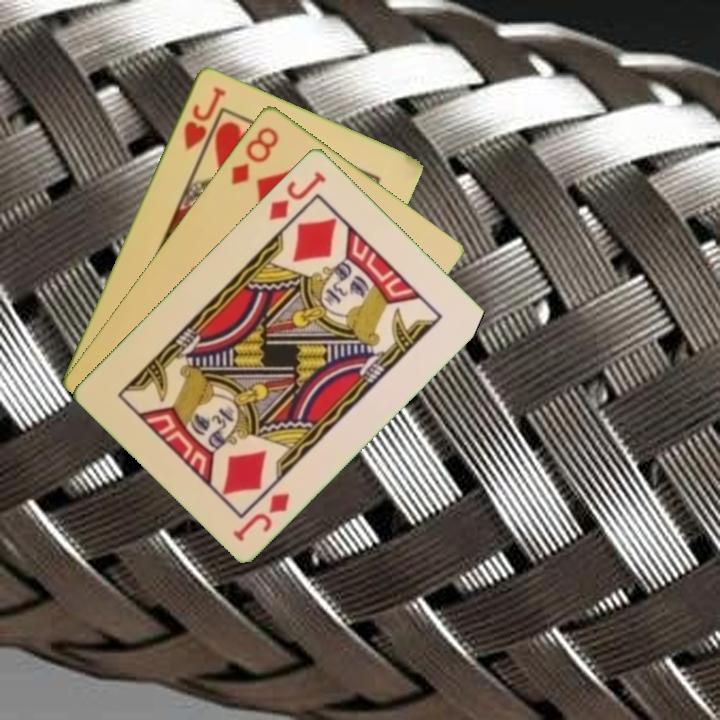8d: (227, 122, 282, 187)
Jd: (265, 167, 329, 223), (229, 488, 293, 544)
Jh: (179, 82, 229, 153)
